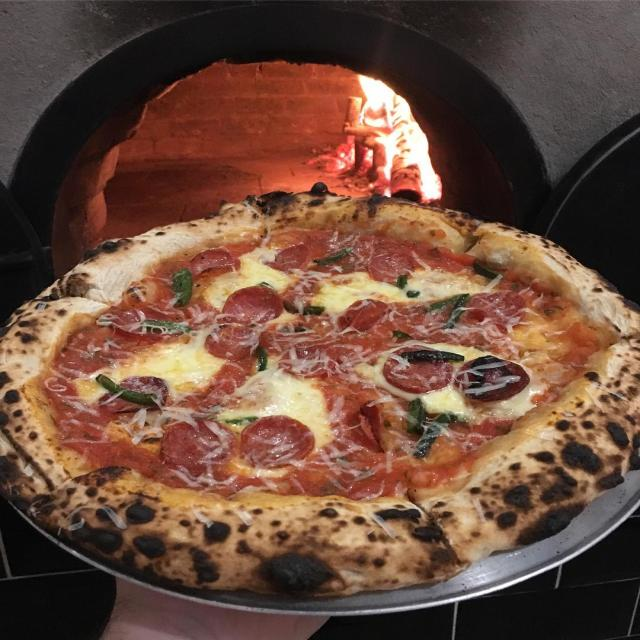pepperoni: (238, 414, 314, 466), (158, 421, 236, 469), (454, 356, 531, 404), (383, 345, 455, 394), (220, 284, 284, 326), (102, 376, 167, 414), (468, 292, 527, 330), (106, 307, 176, 339), (203, 324, 258, 360), (260, 323, 316, 355), (279, 346, 337, 376), (367, 252, 416, 285), (342, 298, 388, 332), (191, 248, 241, 277), (266, 245, 309, 275), (356, 401, 384, 446)
pizza: (0, 181, 640, 601)
